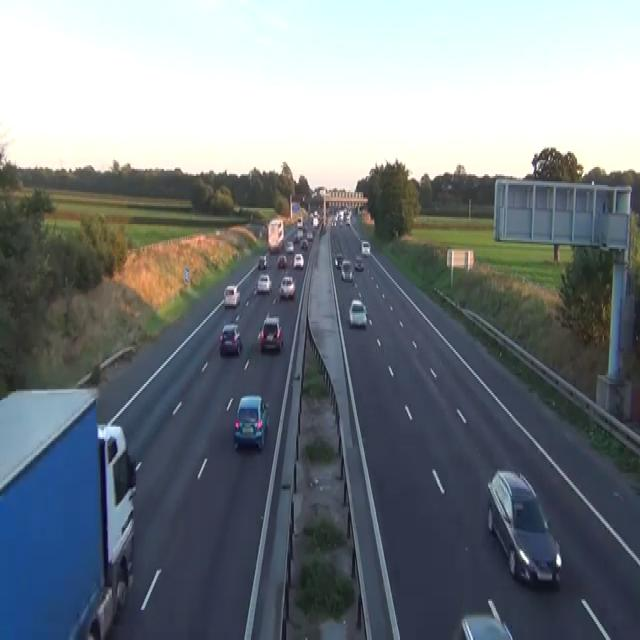Car: (486, 468, 562, 588), (454, 598, 514, 638), (233, 393, 269, 450), (259, 315, 283, 352), (219, 324, 242, 356), (348, 299, 367, 327), (223, 284, 240, 308), (331, 208, 351, 228), (278, 276, 295, 298), (256, 274, 272, 293), (340, 259, 353, 281), (293, 252, 304, 268), (361, 240, 370, 256), (354, 254, 363, 270), (277, 254, 287, 267), (258, 254, 267, 268), (334, 252, 343, 266), (285, 240, 294, 252), (294, 229, 302, 242), (300, 238, 308, 249), (306, 229, 313, 240), (319, 224, 326, 235), (233, 204, 240, 213), (312, 217, 318, 227), (344, 217, 350, 226), (302, 224, 308, 233), (297, 217, 302, 226), (338, 217, 343, 226), (331, 218, 336, 226)
Truck: (0, 386, 140, 638), (267, 217, 284, 252)
